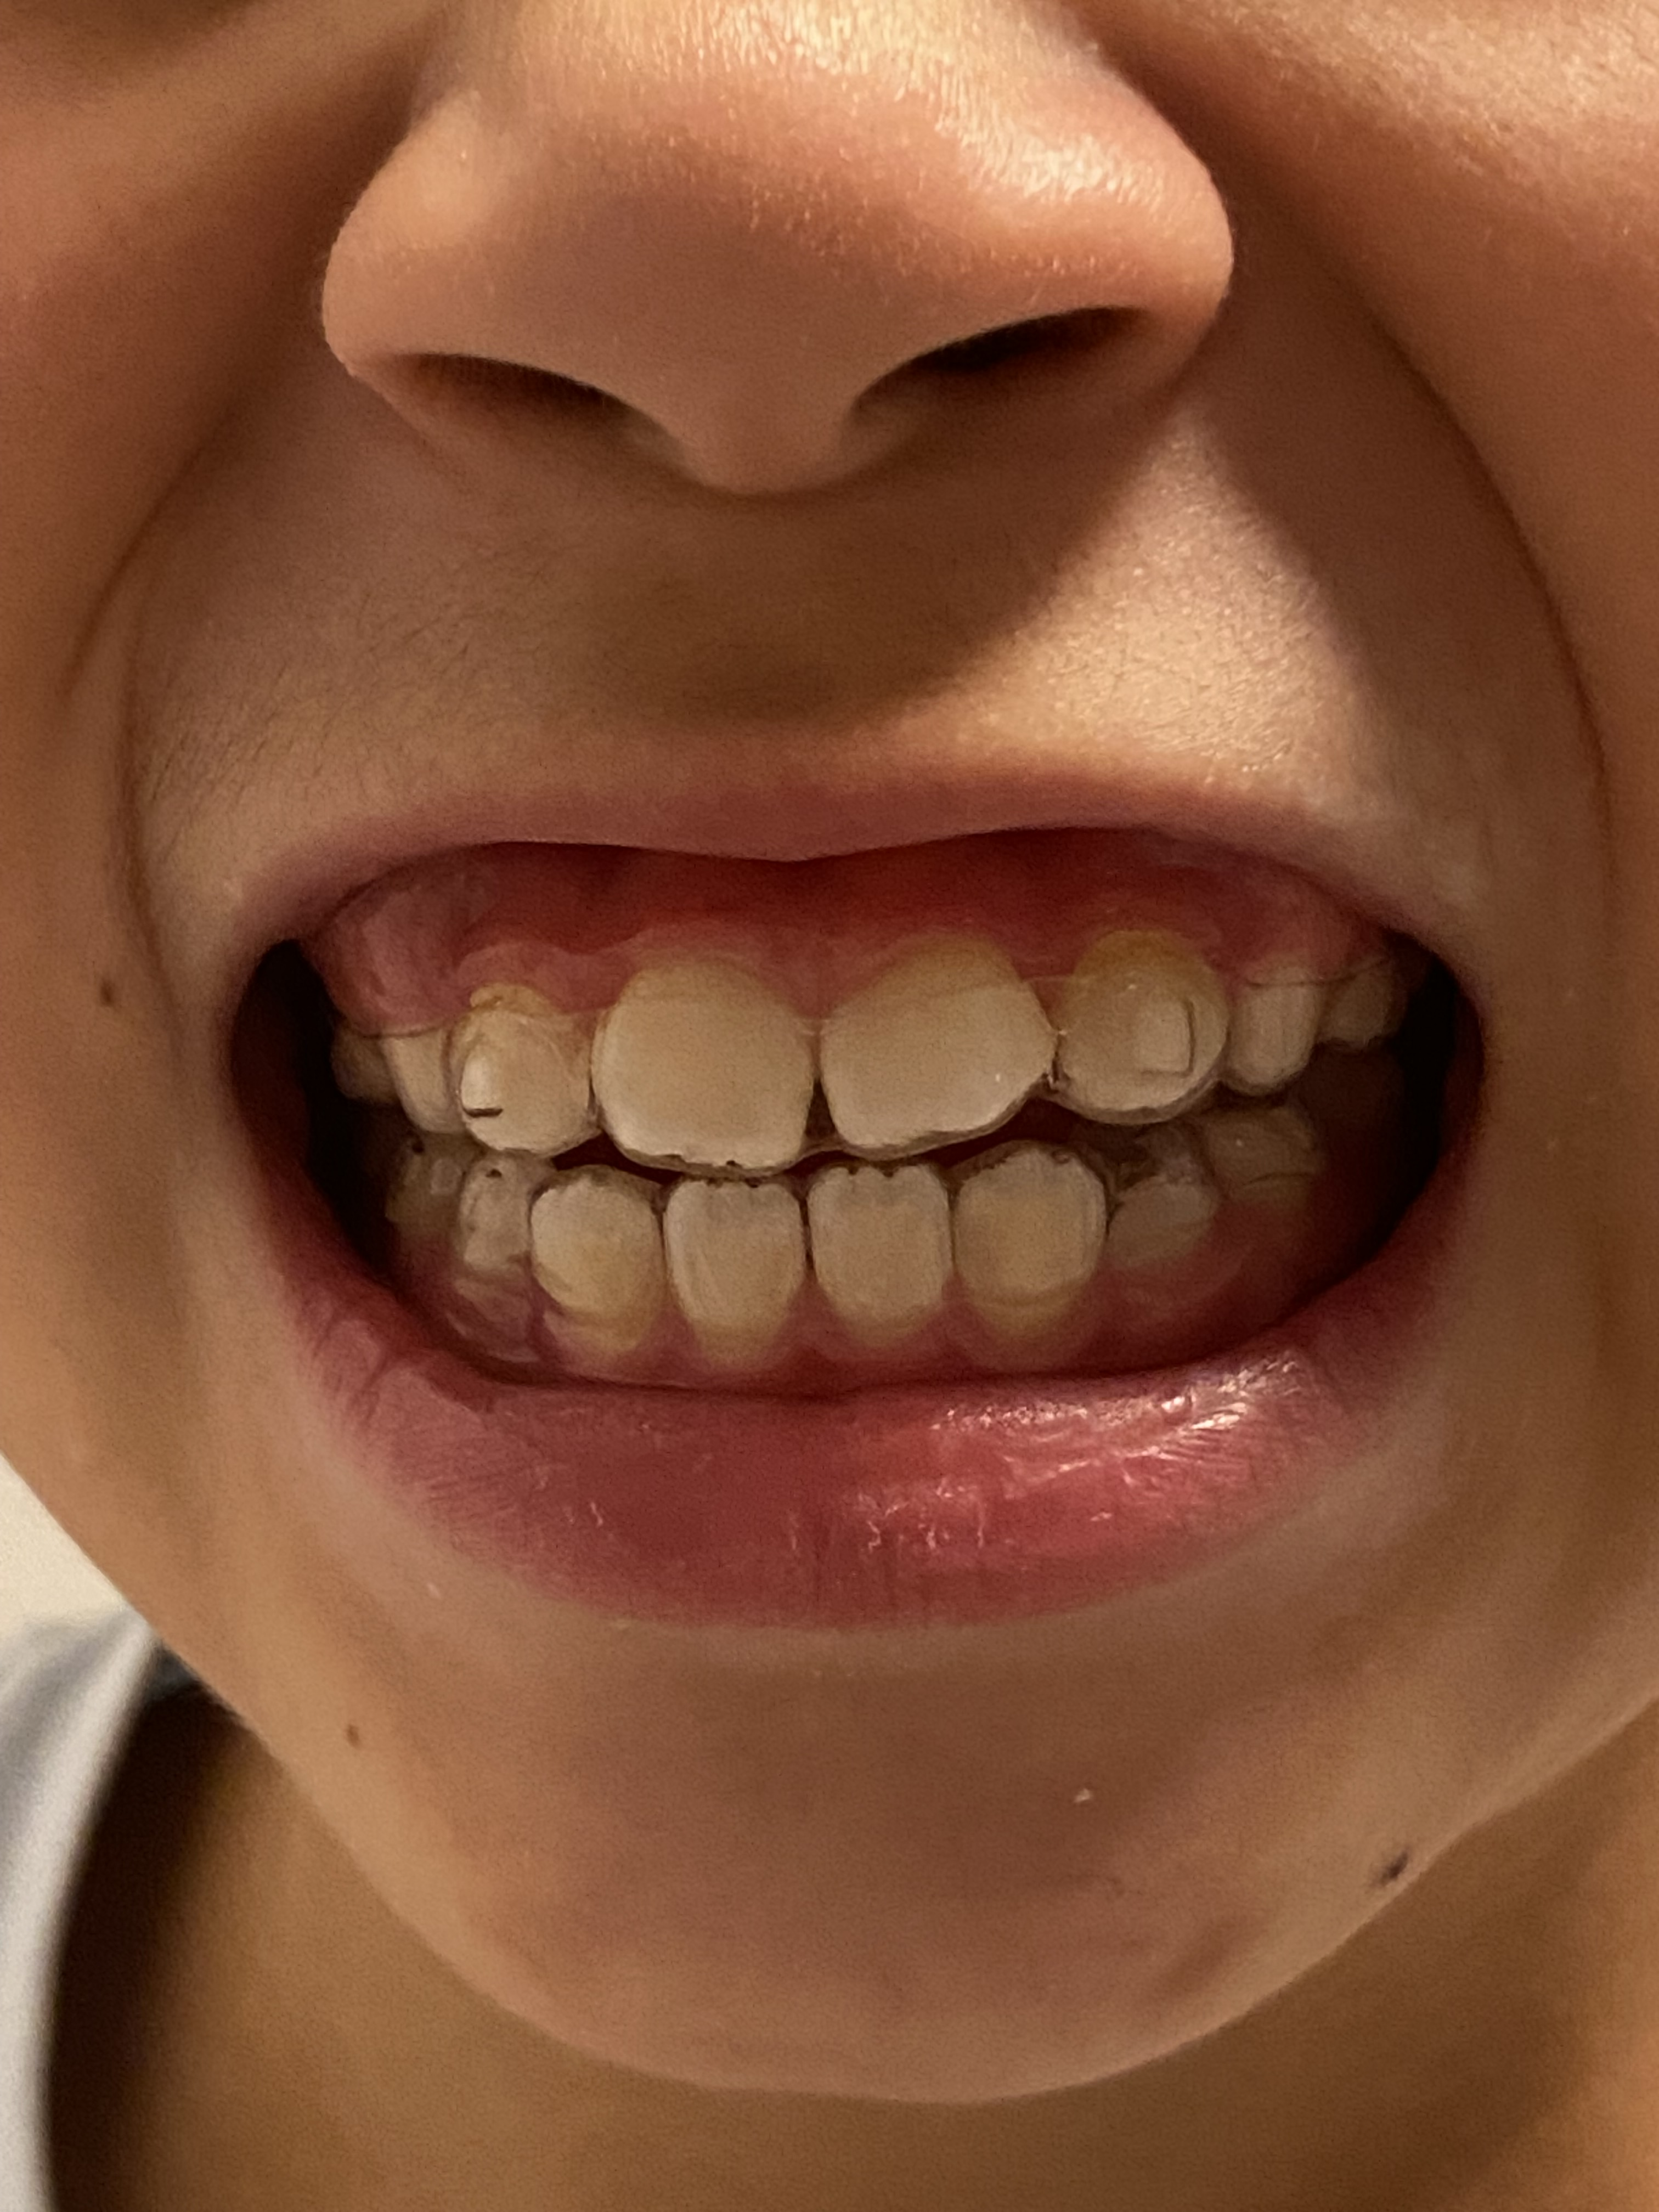teeth: (840, 958, 1061, 1153), (599, 991, 791, 1160), (1082, 944, 1222, 1101), (667, 1204, 793, 1360), (830, 1170, 943, 1338), (974, 1162, 1091, 1322), (451, 1001, 570, 1151), (533, 1190, 641, 1341), (1237, 968, 1319, 1085)
